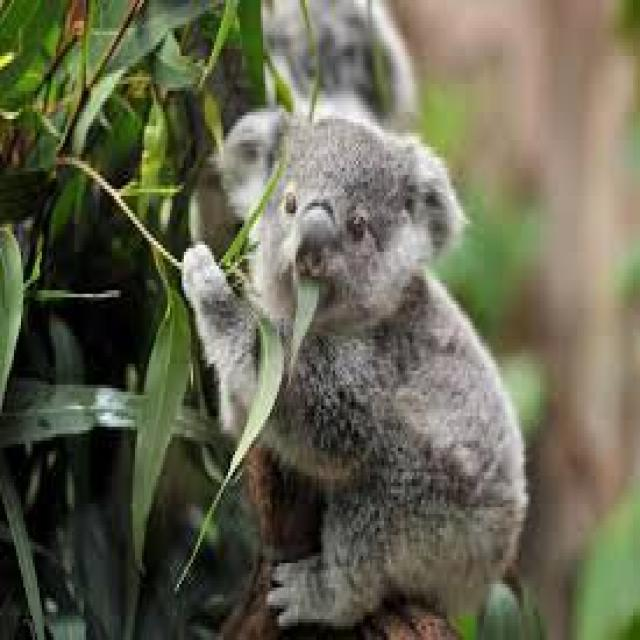Koala: (188, 100, 532, 636)
